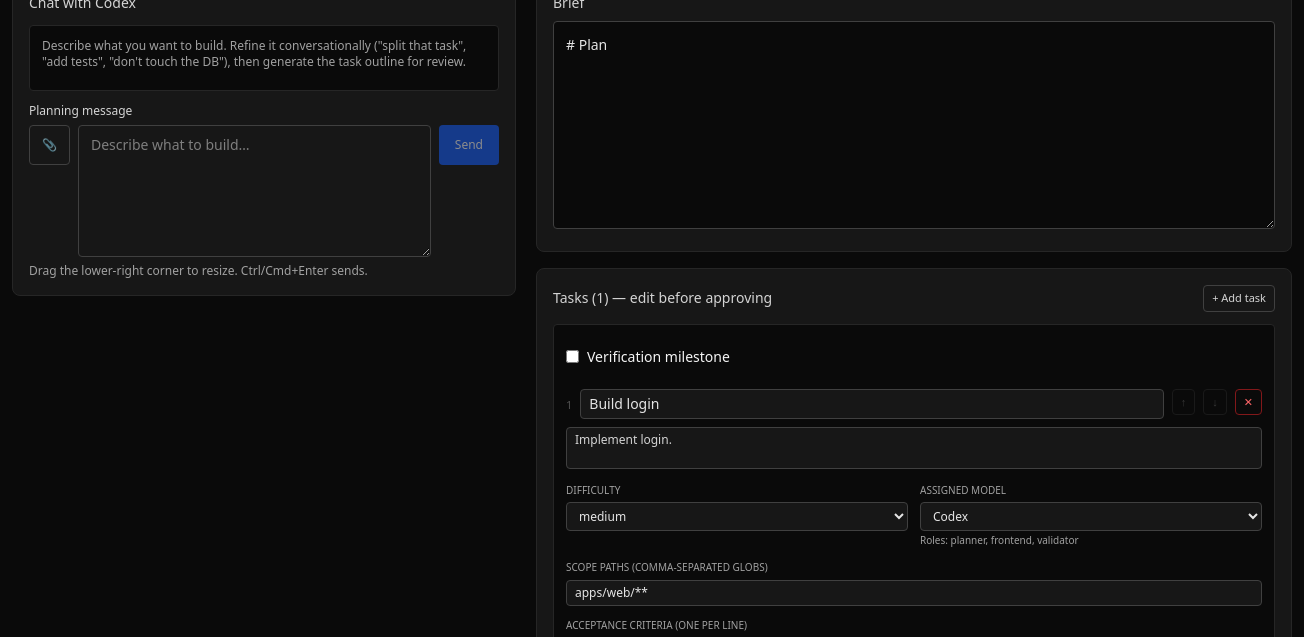
VW02: draft saves are truthful › does not save on load, shows Saved only after acknowledgement, and recovers from a failed save
Replace the text in the field named "Task 1 title" with "Build login (edited)". click: (872, 404)
box: [580,388,1164,418]
(page scrolled)
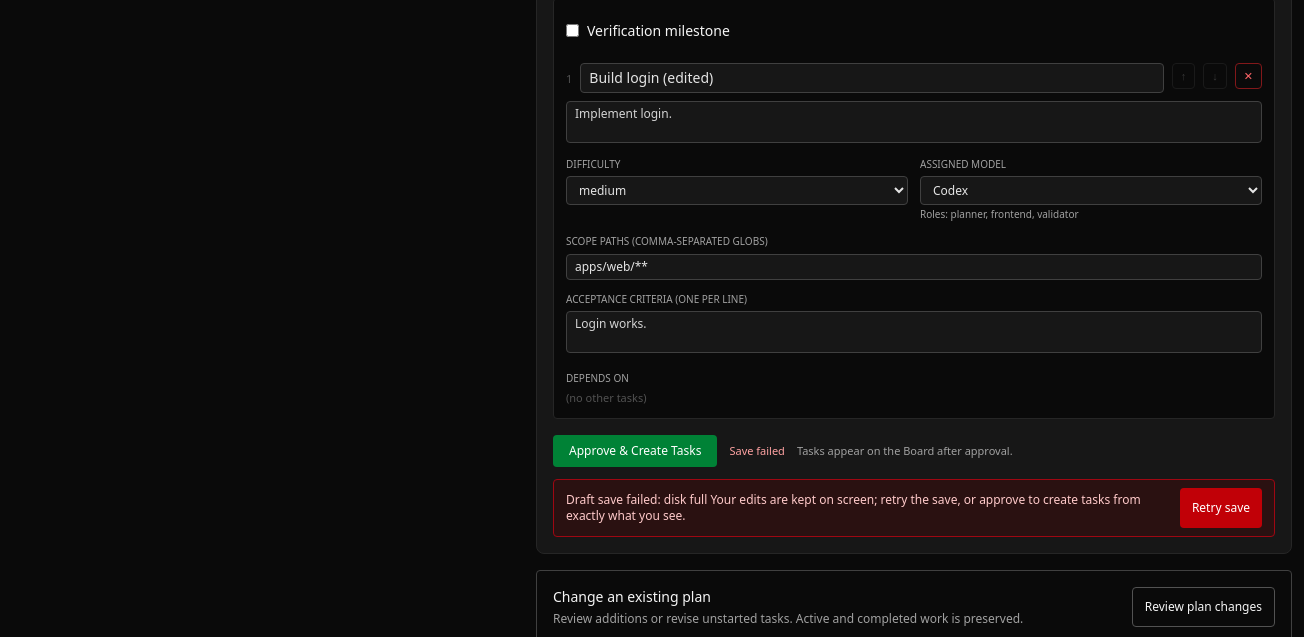
Expected: the message that starts with "Draft save failed:" shows "Draft save failed: disk full", [553,479,1275,537]
Expected: the message with test id "draft-save-status" reads "Save failed", [729,443,785,458]
Click the button "Retry save". click: (1221, 508)
box: [1180,488,1262,528]
(page scrolled)
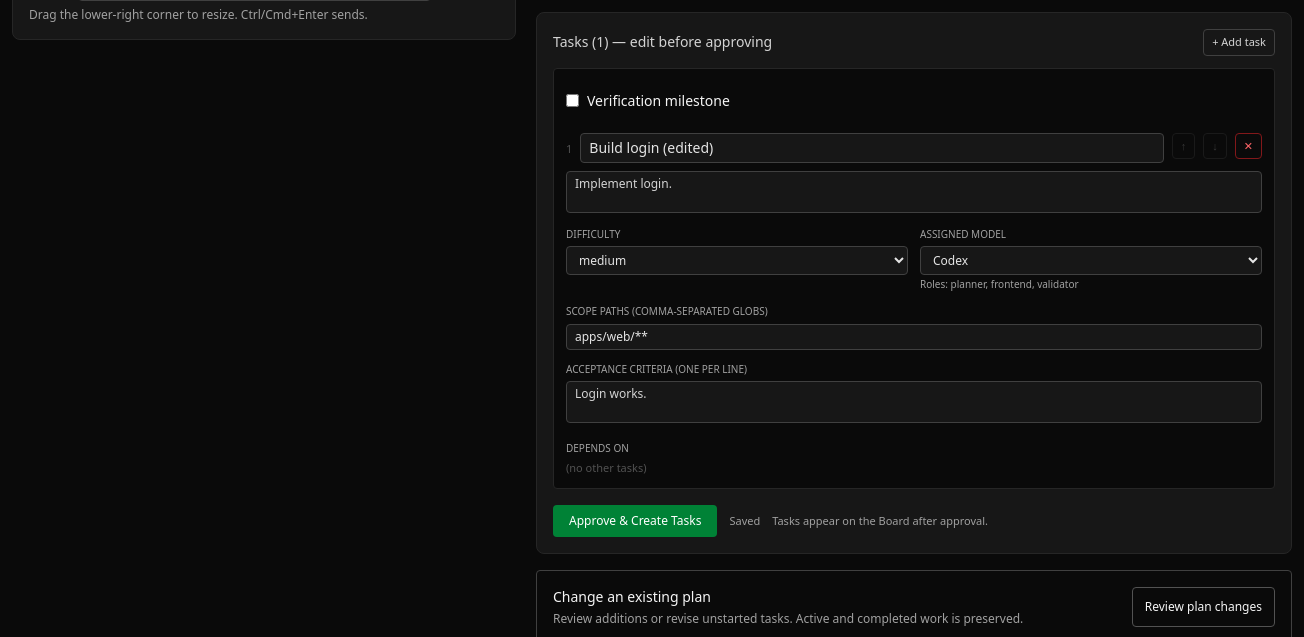
Expected: the message with test id "draft-save-status" reads "Saved", [729,513,760,528]
